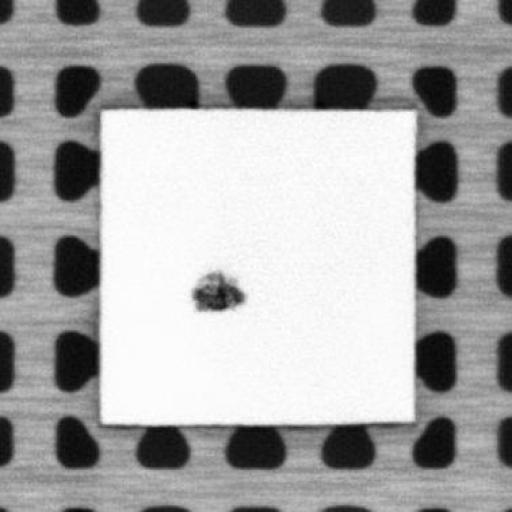DIE_INK: (188, 267, 244, 315)
